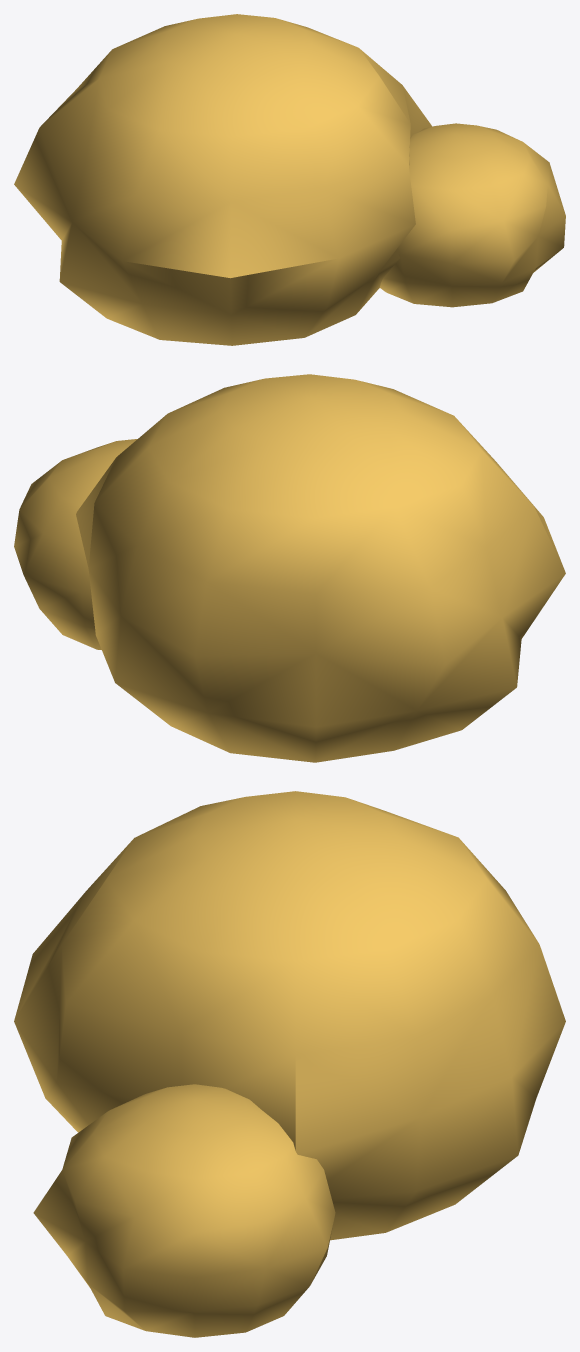
The model's file is scenery3.glb.
3 views of the same model, one above another, from view 1: azimuth 30°, elevation 25°; view 2: azimuth 150°, elevation 25°; view 3: azimuth 270°, elevation 25° (orthographic). The views are drawn at different scales.
Parts seen in each view (by area): view 1: root_mesh; view 2: root_mesh; view 3: root_mesh.
Part boxes in pixels (bbox=[...]): root_mesh: bbox=[14, 14, 565, 345]; root_mesh: bbox=[14, 374, 565, 762]; root_mesh: bbox=[14, 791, 565, 1337].
Size of the model in its own units: 2.13 by 1.19 by 1.64.
